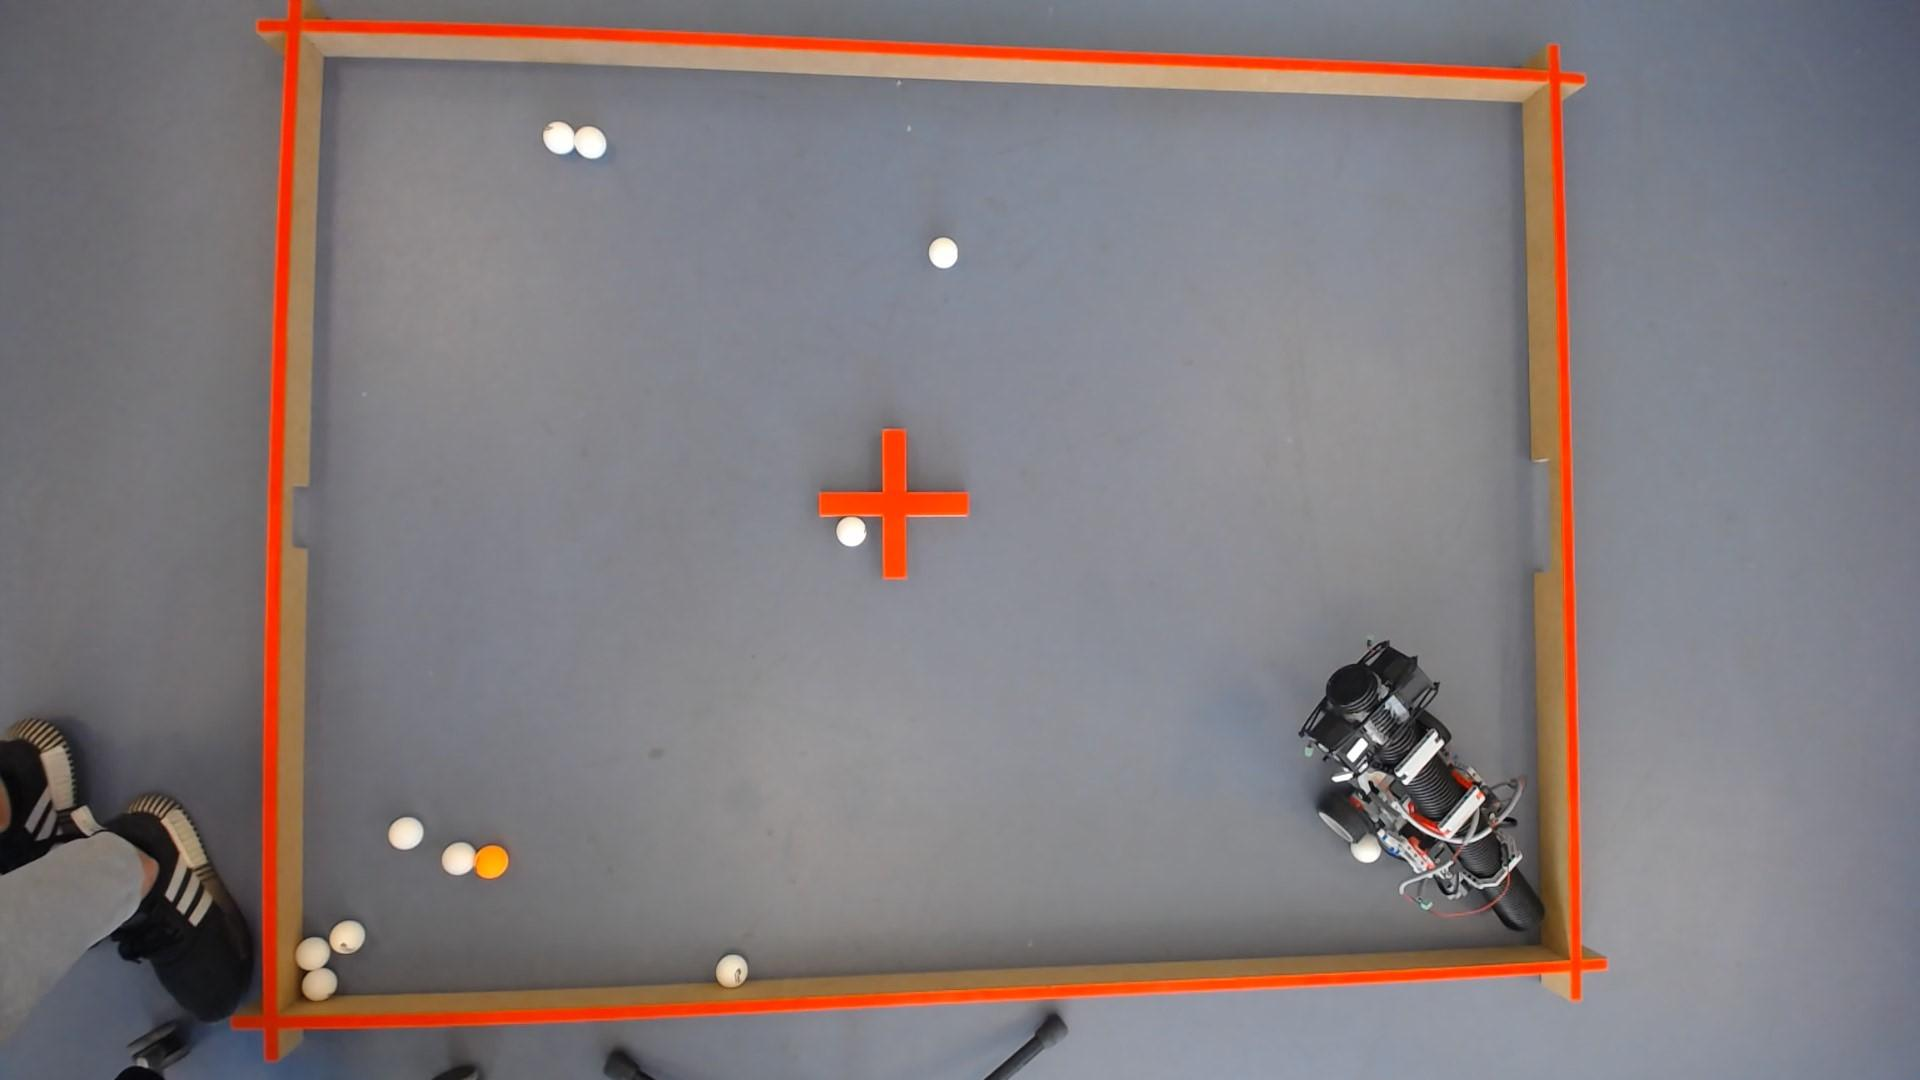robot: (1302, 640, 1549, 931)
white: (539, 117, 576, 156), (299, 967, 336, 1002), (326, 920, 364, 955), (713, 953, 749, 989), (293, 938, 328, 972), (386, 818, 423, 849), (574, 124, 607, 157), (440, 845, 473, 878), (836, 516, 866, 546), (928, 235, 957, 265)
